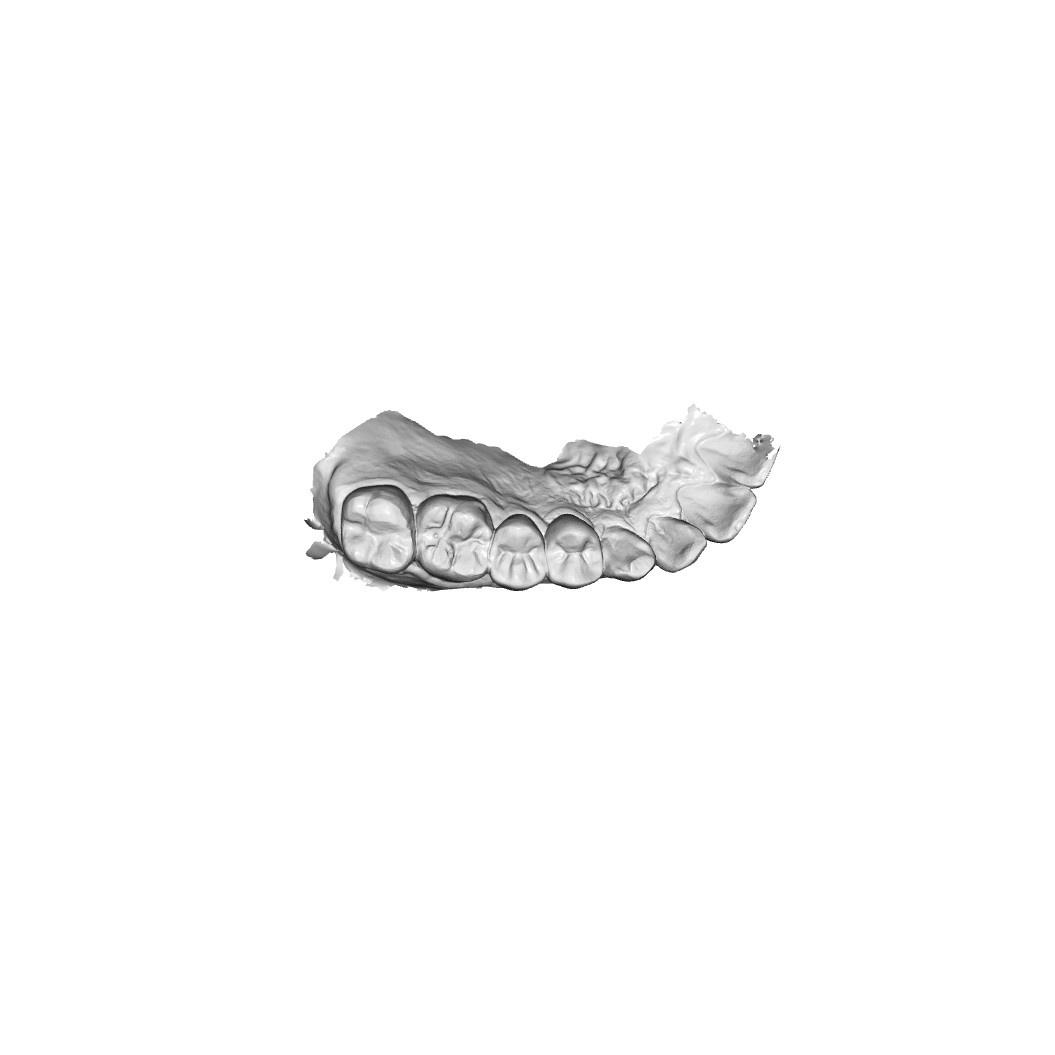canine: (598, 524, 658, 584)
incisor: (698, 427, 778, 490), (683, 483, 757, 541), (650, 513, 703, 572)
molar: (338, 488, 415, 577), (413, 502, 494, 581)
premolar: (542, 521, 604, 584), (494, 522, 546, 590)
